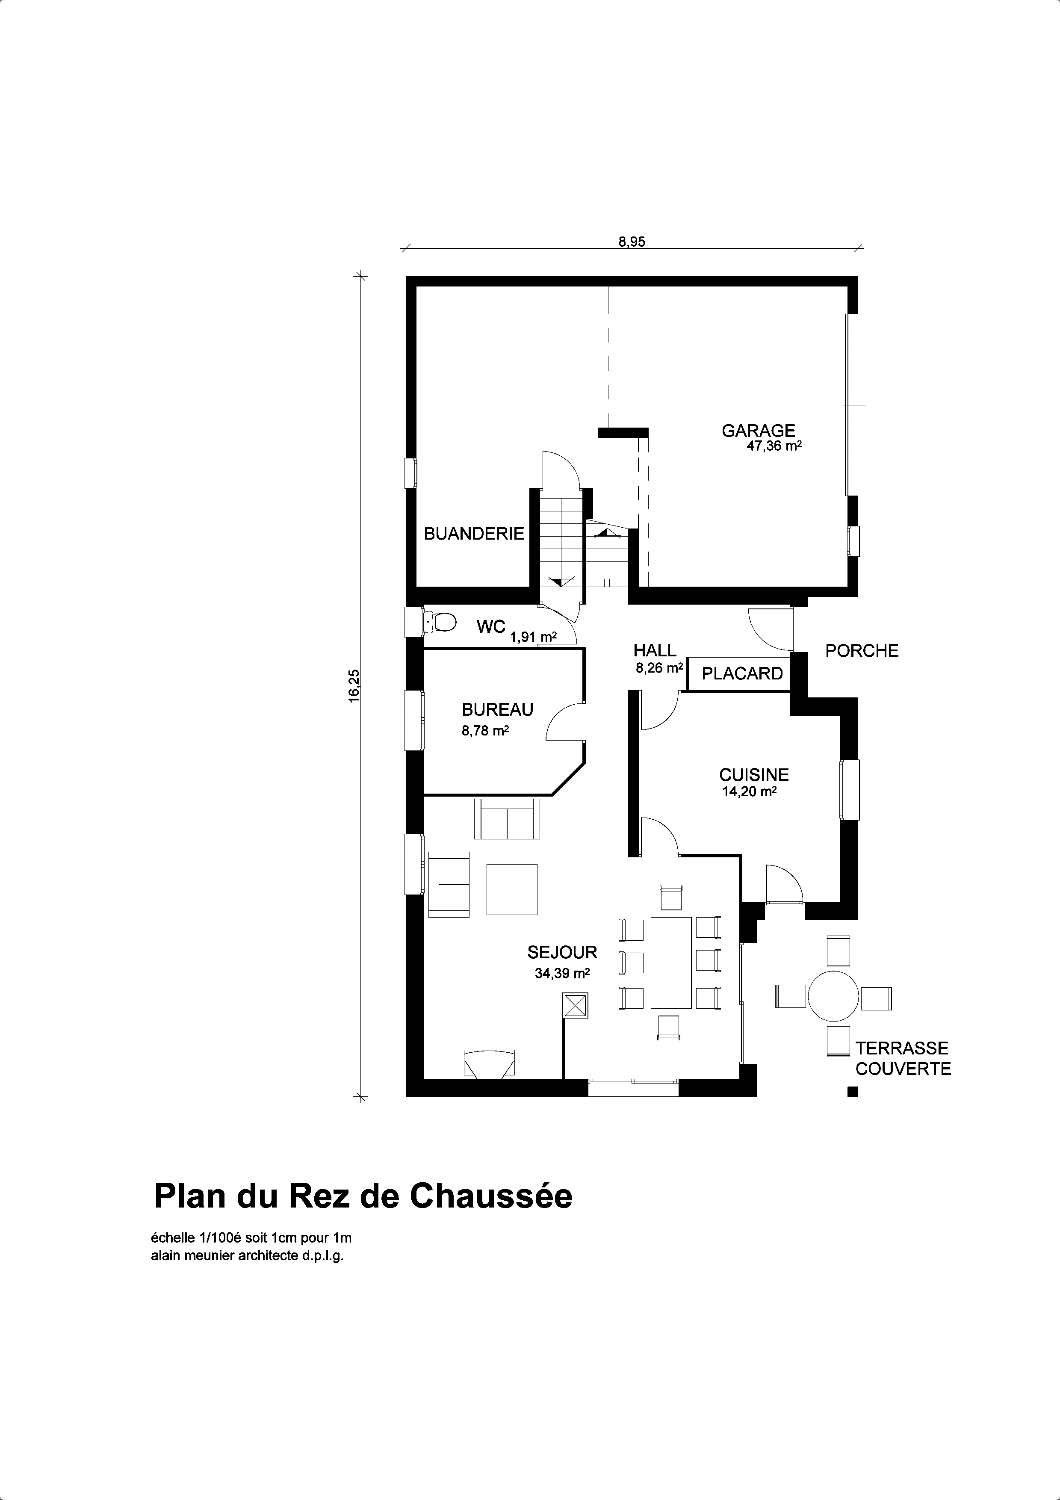door: (747, 607, 795, 653), (545, 700, 587, 744), (637, 817, 681, 858), (539, 450, 582, 492), (638, 689, 681, 731), (537, 604, 578, 648), (765, 864, 803, 905), (540, 600, 582, 623)
toilet: (424, 610, 458, 634)
window: (403, 833, 426, 896), (839, 758, 860, 823), (404, 689, 426, 752), (403, 606, 424, 639), (845, 526, 860, 558), (403, 458, 418, 490)
